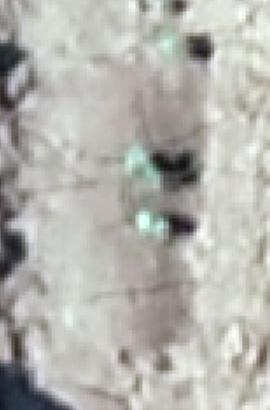cotton: (138, 209, 167, 234), (129, 144, 149, 173), (159, 34, 182, 59), (147, 165, 161, 188)
